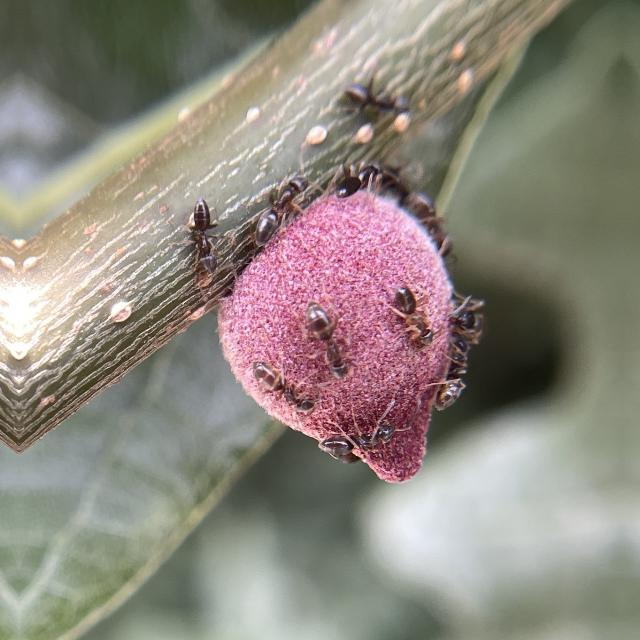Tapinoma: (244, 162, 316, 246), (390, 190, 460, 274), (425, 322, 483, 416), (300, 297, 360, 387), (246, 352, 320, 421), (335, 68, 419, 124), (314, 411, 398, 467), (180, 190, 227, 280), (328, 148, 397, 208), (385, 278, 441, 350)
